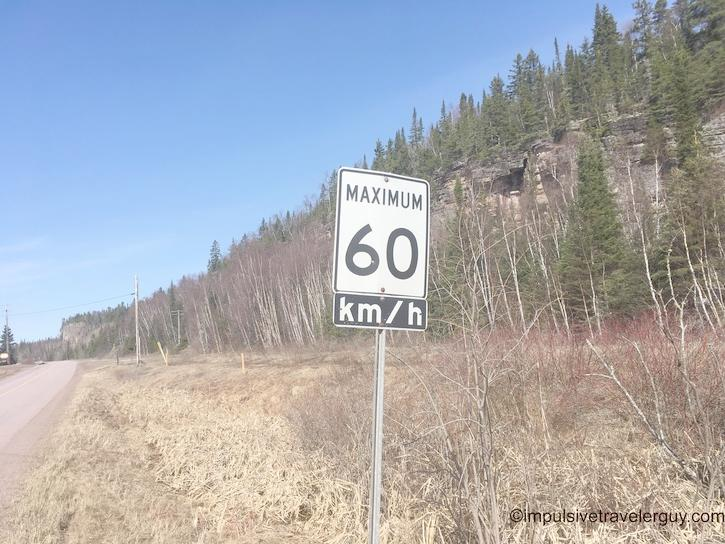speed limit sign: (335, 165, 429, 329)
